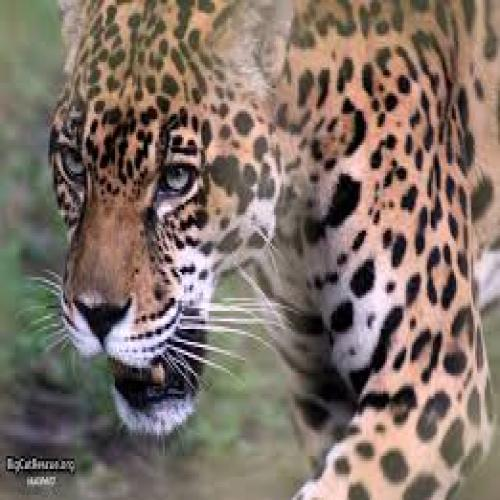jaguar_not-endangered: (45, 0, 500, 481)
